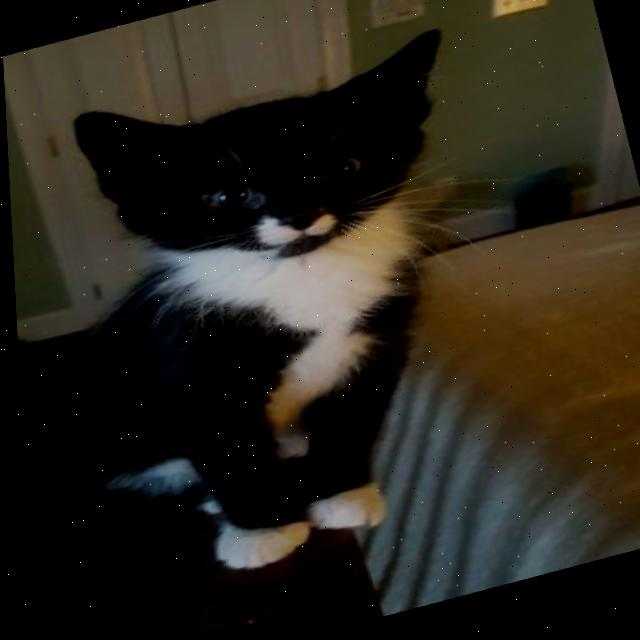Tuxedo: (2, 12, 566, 620)
